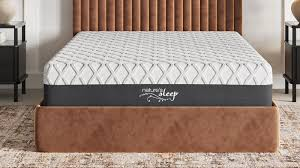bed-matress: (43, 29, 273, 106)
